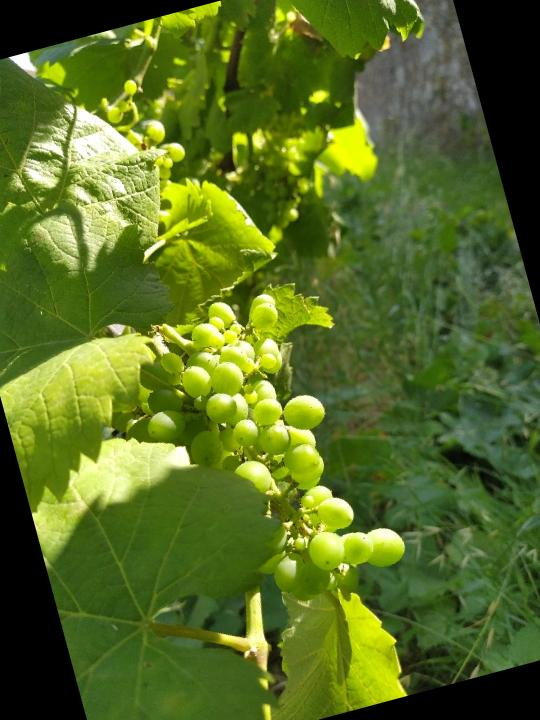grape: (106, 253, 415, 636)
